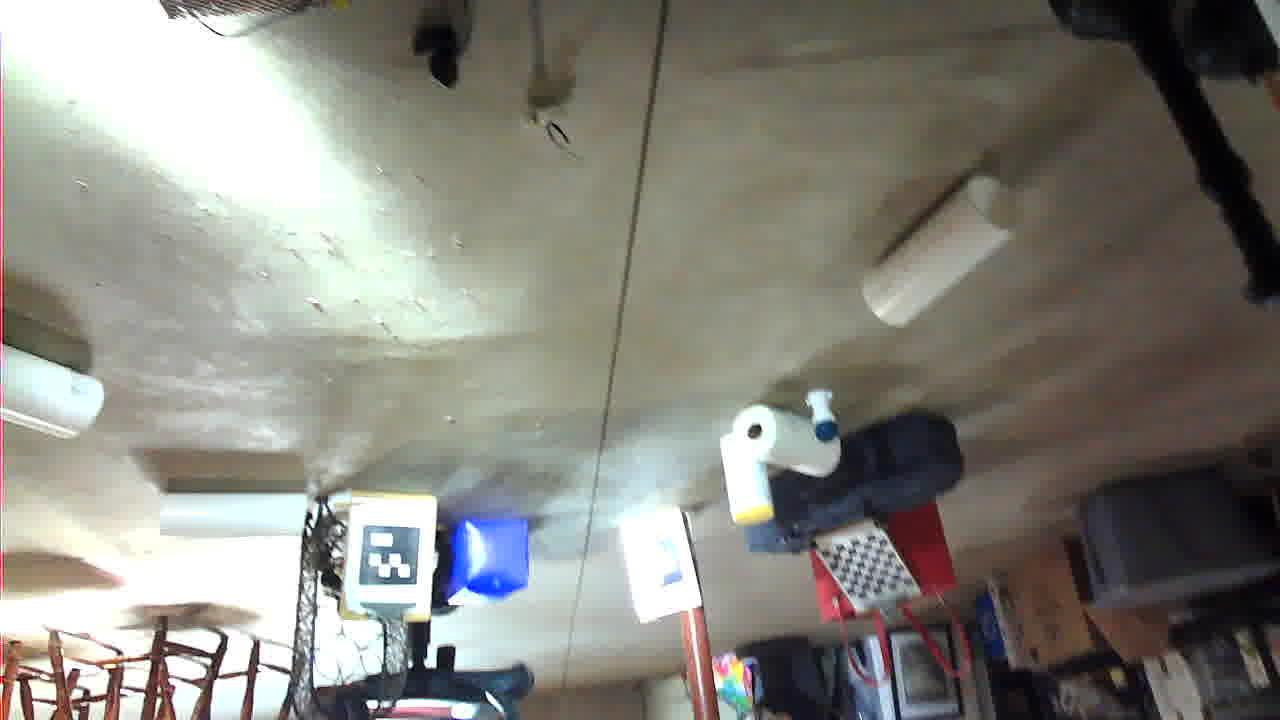coral: (261, 390, 417, 551), (1176, 283, 1280, 381), (976, 179, 1123, 230)
